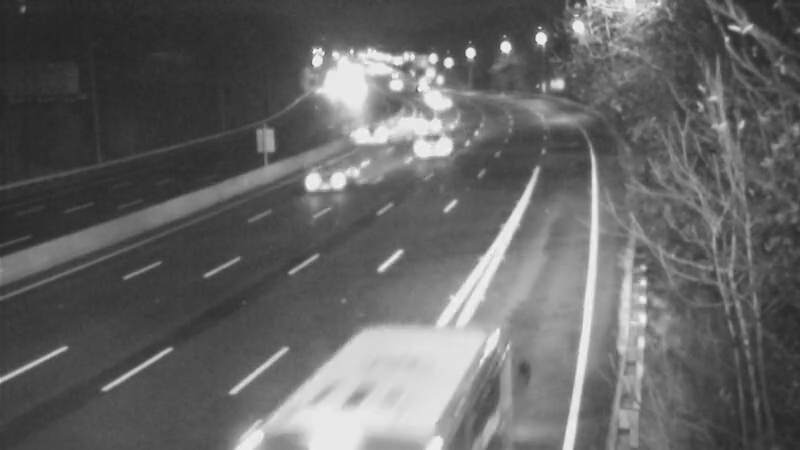vehicle: (308, 354, 418, 450), (285, 142, 365, 222), (413, 76, 463, 126), (402, 97, 452, 147), (346, 108, 396, 158), (404, 117, 454, 167)
